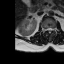CCS_normal: (49, 26, 50, 35)
LFS_normal: (52, 26, 54, 32)
LLS_normal: (50, 26, 52, 32)
RFS_normal: (44, 26, 47, 32)
RLS_normal: (47, 26, 48, 32)
